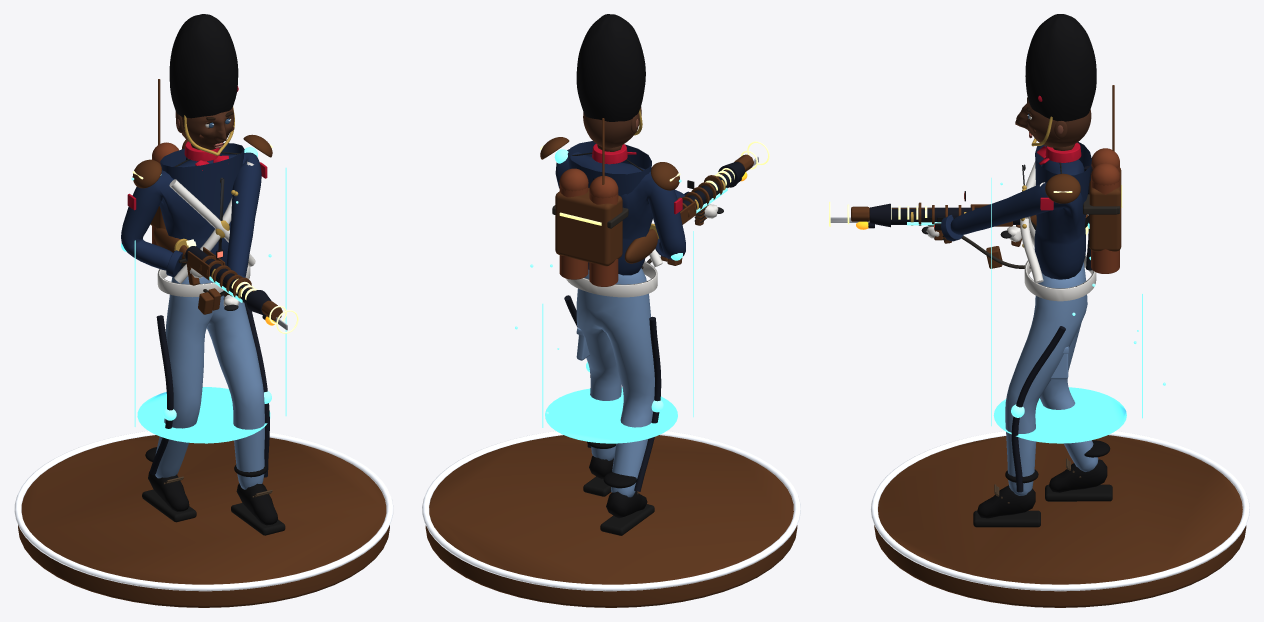
Rendered from braender_kbh.glb.
3 views of the same model, side by side, from view 1: azimuth 30°, elevation 25°; view 2: azimuth 150°, elevation 25°; view 3: azimuth 270°, elevation 25° (orthographic).
Parts seen in each view (by area): view 1: fod_net, menneske_net, hoved_net, op4.001_net, op1.001_net, op4_net, vaaben_net, op3.001_net, op4.002_net, op3_net, op1_net; view 2: fod_net, menneske_net, hoved_net, op3.001_net, op4.001_net, op4_net, op1.001_net, vaaben_net, op1_net, op4.002_net; view 3: fod_net, menneske_net, hoved_net, op4.001_net, op3.001_net, op1.001_net, op4_net, op1_net, vaaben_net.
Boxes of the visible parts, <box> form: fod_net: <box>14,431,393,607</box>; menneske_net: <box>121,139,285,535</box>; hoved_net: <box>169,14,238,155</box>; op4.001_net: <box>131,167,286,443</box>; op1.001_net: <box>157,161,255,297</box>; op4_net: <box>121,147,271,477</box>; vaaben_net: <box>153,228,275,325</box>; op3.001_net: <box>132,79,272,229</box>; op4.002_net: <box>186,239,298,333</box>; op3_net: <box>187,247,282,320</box>; op1_net: <box>185,246,254,300</box>; fod_net: <box>422,431,800,607</box>; menneske_net: <box>555,141,723,535</box>; hoved_net: <box>576,14,645,148</box>; op3.001_net: <box>540,118,680,266</box>; op4.001_net: <box>515,179,693,443</box>; op4_net: <box>554,149,682,491</box>; op1.001_net: <box>552,206,662,297</box>; vaaben_net: <box>624,161,747,263</box>; op1_net: <box>641,169,734,268</box>; op4.002_net: <box>673,141,769,265</box>; fod_net: <box>870,431,1249,607</box>; menneske_net: <box>921,142,1119,527</box>; hoved_net: <box>1015,14,1096,147</box>; op4.001_net: <box>991,177,1165,443</box>; op3.001_net: <box>1045,85,1122,251</box>; op1.001_net: <box>1020,161,1119,301</box>; op4_net: <box>1011,166,1092,492</box>; op1_net: <box>891,205,1030,268</box>; vaaben_net: <box>856,203,1088,246</box>.
Bounding box in the file's own units: 1.94 × 2.9 × 2.15.
